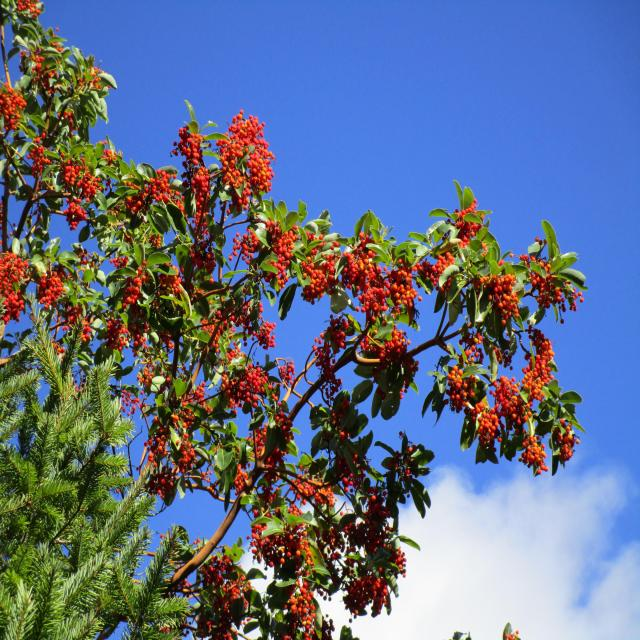Arbutus menziesii: (0, 1, 585, 640)
